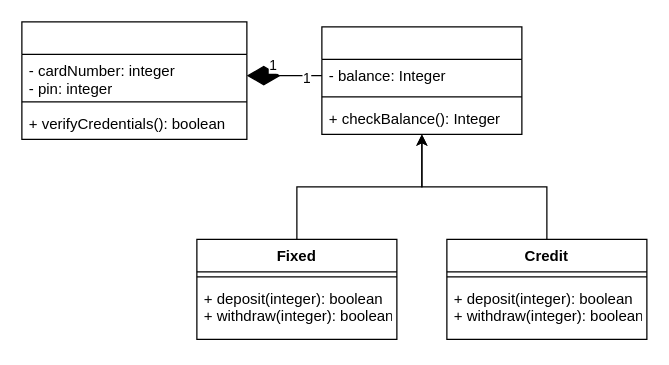
The diagram is 669 pixels wide and 365 high, and some of its shapes have lost their labels. The box of each missing label's shape, as (x1, y1, x2, y2) in pixels:
Account: (321, 26, 522, 134)
Customer: (21, 21, 247, 139)
